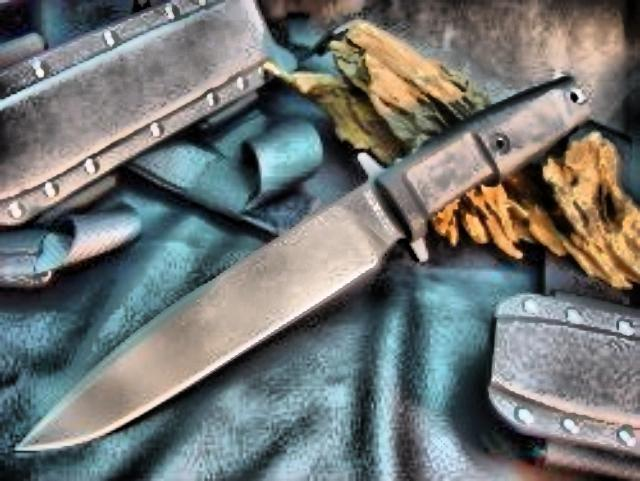knife: (8, 187, 396, 453)
